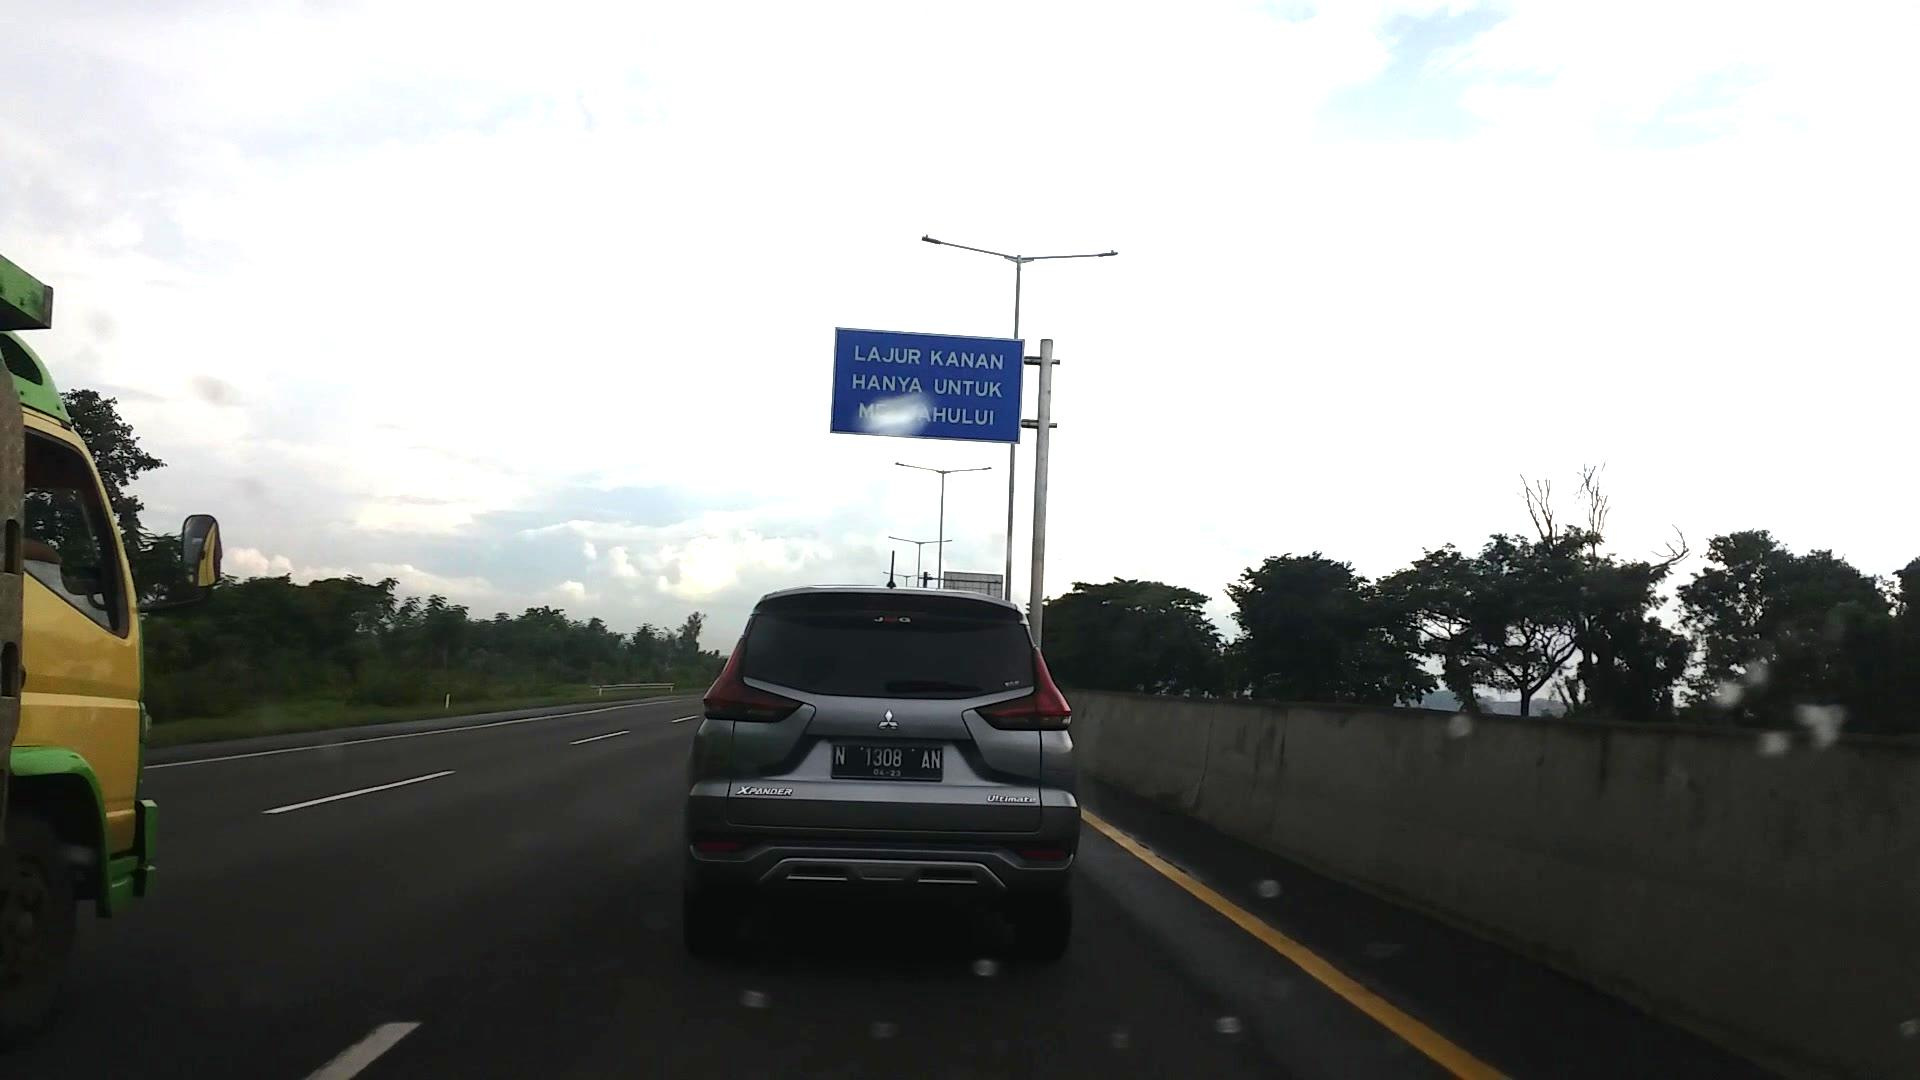plate_positive: (832, 744, 943, 783)
